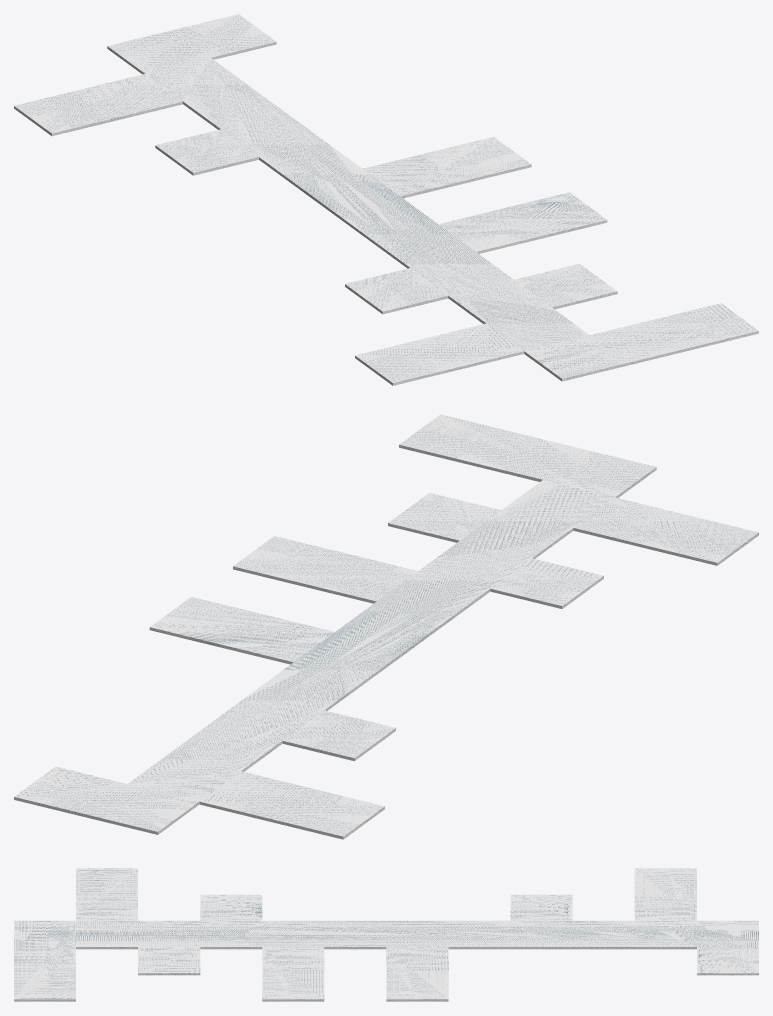
File: KeyFull3.fbx
3 views of the same model, one above another, from view 1: azimuth 30°, elevation 25°; view 2: azimuth 150°, elevation 25°; view 3: azimuth 270°, elevation 25° (orthographic). The views are drawn at different scales.
Parts seen in each view (by area): view 1: Model; view 2: Model; view 3: Model.
Boxes of the visible parts, box(x1,y1,x2,y2) form: Model: box(14, 14, 758, 385); Model: box(14, 414, 758, 839); Model: box(14, 868, 758, 1001).
Bounding box in the file's own units: 125 × 1 × 300.
